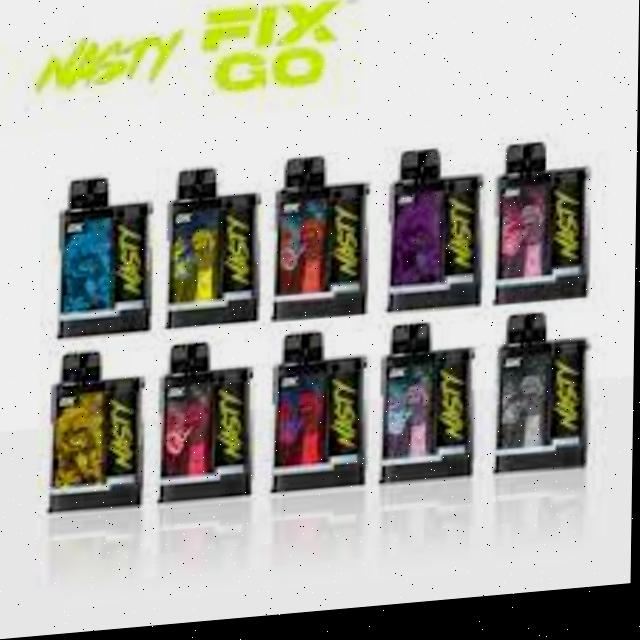vape: (272, 159, 371, 328), (50, 350, 147, 521), (494, 148, 592, 314), (58, 171, 154, 340), (380, 327, 477, 492), (273, 333, 368, 501), (388, 155, 485, 318), (497, 319, 590, 488), (167, 165, 261, 331), (161, 344, 255, 506)
